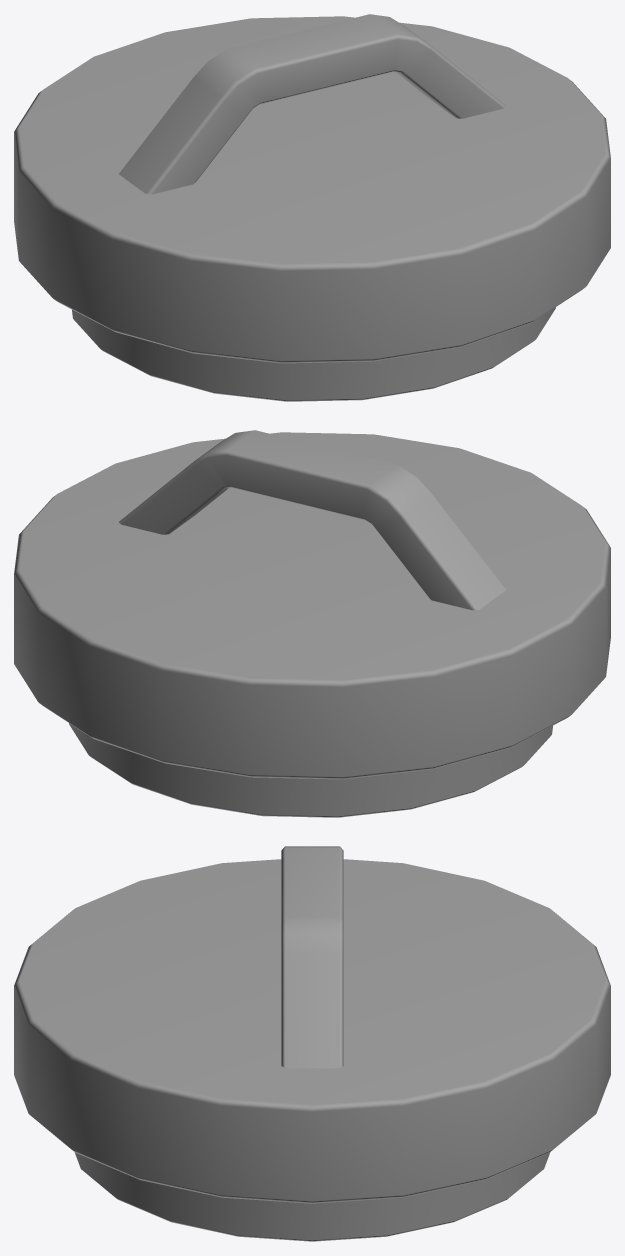
File: Farm_19_Conteiner_LId_1.glb
3 views of the same model, one above another, from view 1: azimuth 30°, elevation 25°; view 2: azimuth 150°, elevation 25°; view 3: azimuth 270°, elevation 25° (orthographic).
Parts seen in each view (by area): view 1: Farm_19_Conteiner_LId_1; view 2: Farm_19_Conteiner_LId_1; view 3: Farm_19_Conteiner_LId_1.
Boxes of the visible parts, <box> form: Farm_19_Conteiner_LId_1: <box>14,14,610,401</box>; Farm_19_Conteiner_LId_1: <box>14,430,610,817</box>; Farm_19_Conteiner_LId_1: <box>14,846,610,1241</box>.
Size of the model in its own units: 0.3381 by 0.1609 by 0.3381.
1 material, 1 textured.
